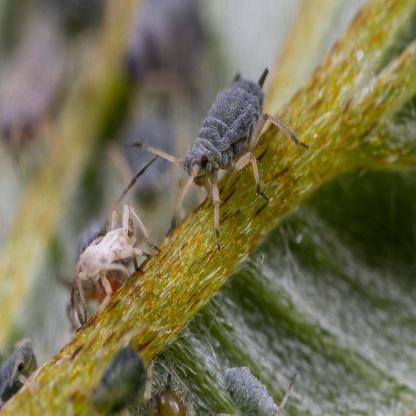aphid: (157, 69, 293, 220), (60, 199, 148, 334), (222, 356, 296, 416), (93, 340, 151, 416), (0, 332, 42, 407)
